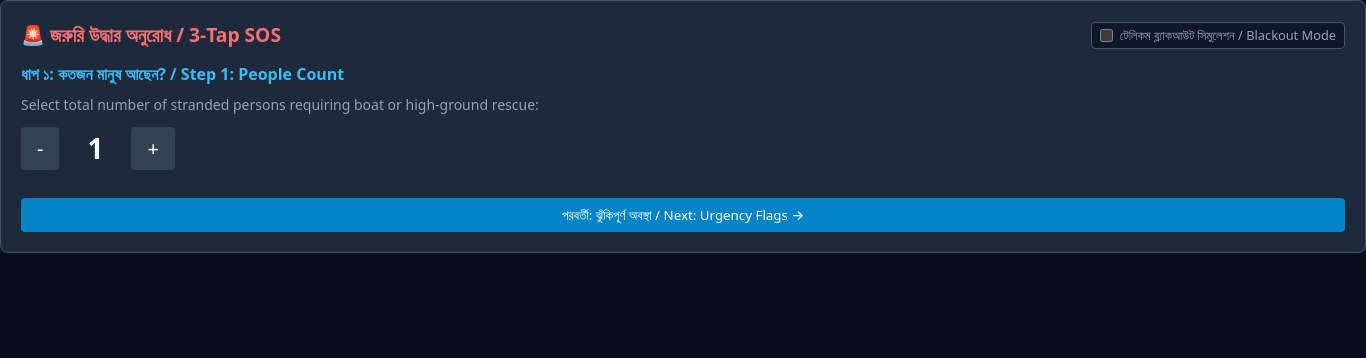
Test: ThreeTapSos Component › allows 3-tap SOS progression through people count, flags, and location
expect the heading "ধাপ ১: কতজন মানুষ আছেন? / Step 1: People Count" is shown: met, box [21,63,344,85]
Click the button named "Increase people count".
click(153, 148)  # box [132,127,175,170]
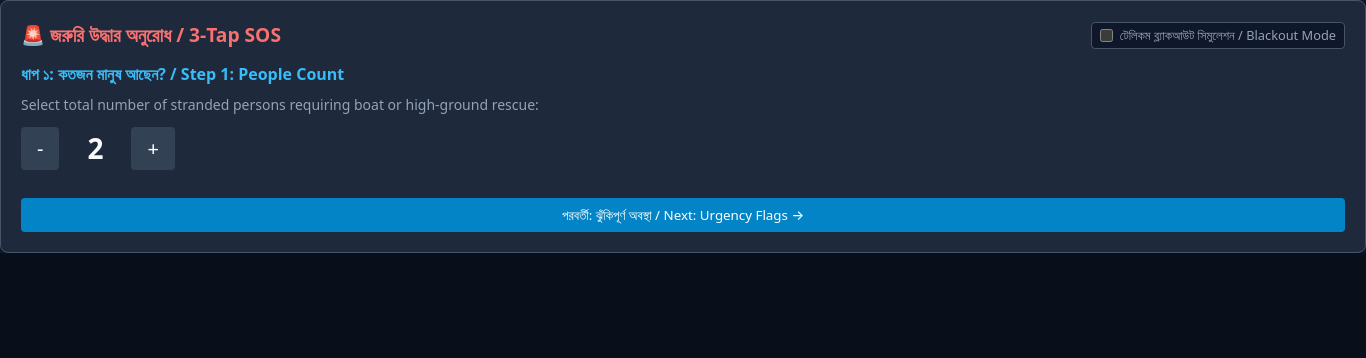
Click the button "পরবর্তী: ঝুঁকিপূর্ণ অবস্থা / Next: Urgency Flags →".
click(683, 215)  # box [21,198,1345,232]
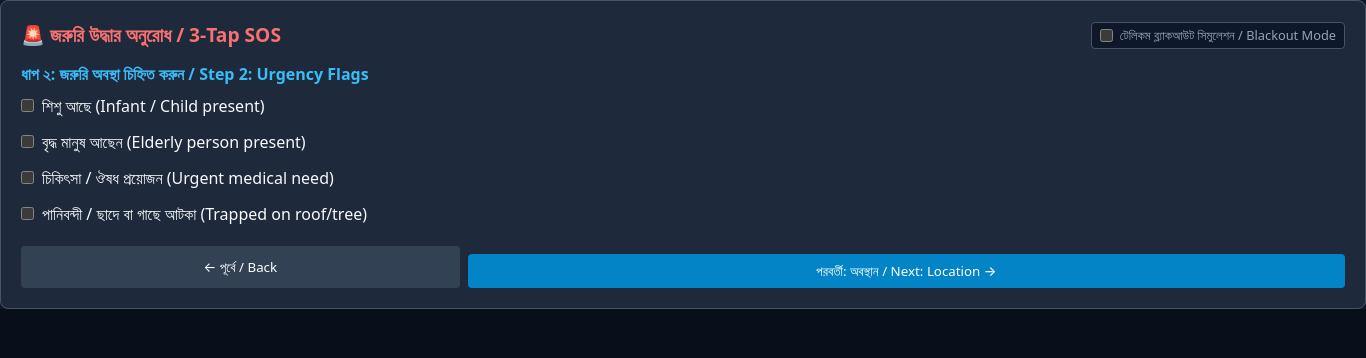
expect the heading "ধাপ ২: জরুরি অবস্থা চিহ্নিত করুন / Step 2: Urgency Flags" is shown: met, box [21,63,369,85]
Click the checkbox labelled "শিশু আছে (Infant / Child present)".
click(28, 106)  # box [21,99,34,112]
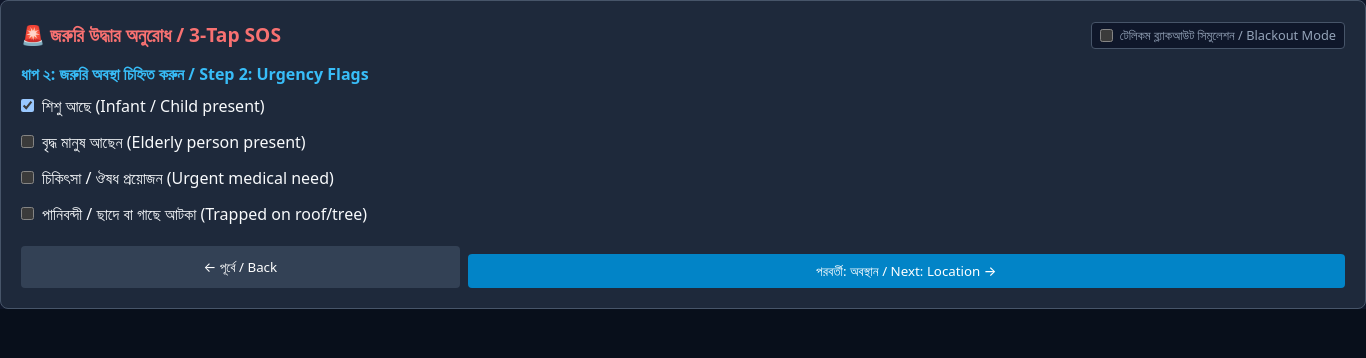
Click the button "পরবর্তী: অবস্থান / Next: Location →".
click(906, 271)  # box [468,254,1345,288]
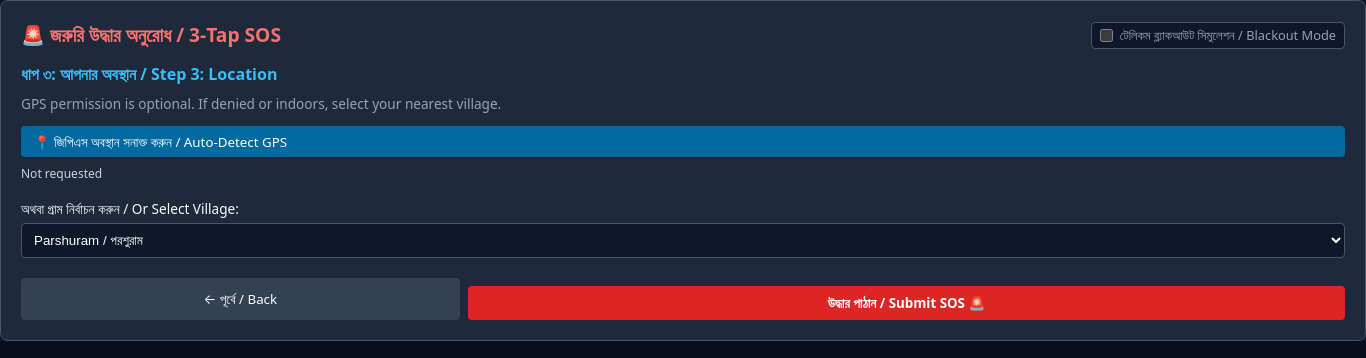
expect the heading "ধাপ ৩: আপনার অবস্থান / Step 3: Location" is shown: met, box [21,63,277,85]
expect the text "GPS permission is optional" is shown: met, box [21,94,501,113]
expect the button "উদ্ধার পাঠান / Submit SOS 🚨" is shown: met, box [468,286,1345,320]
